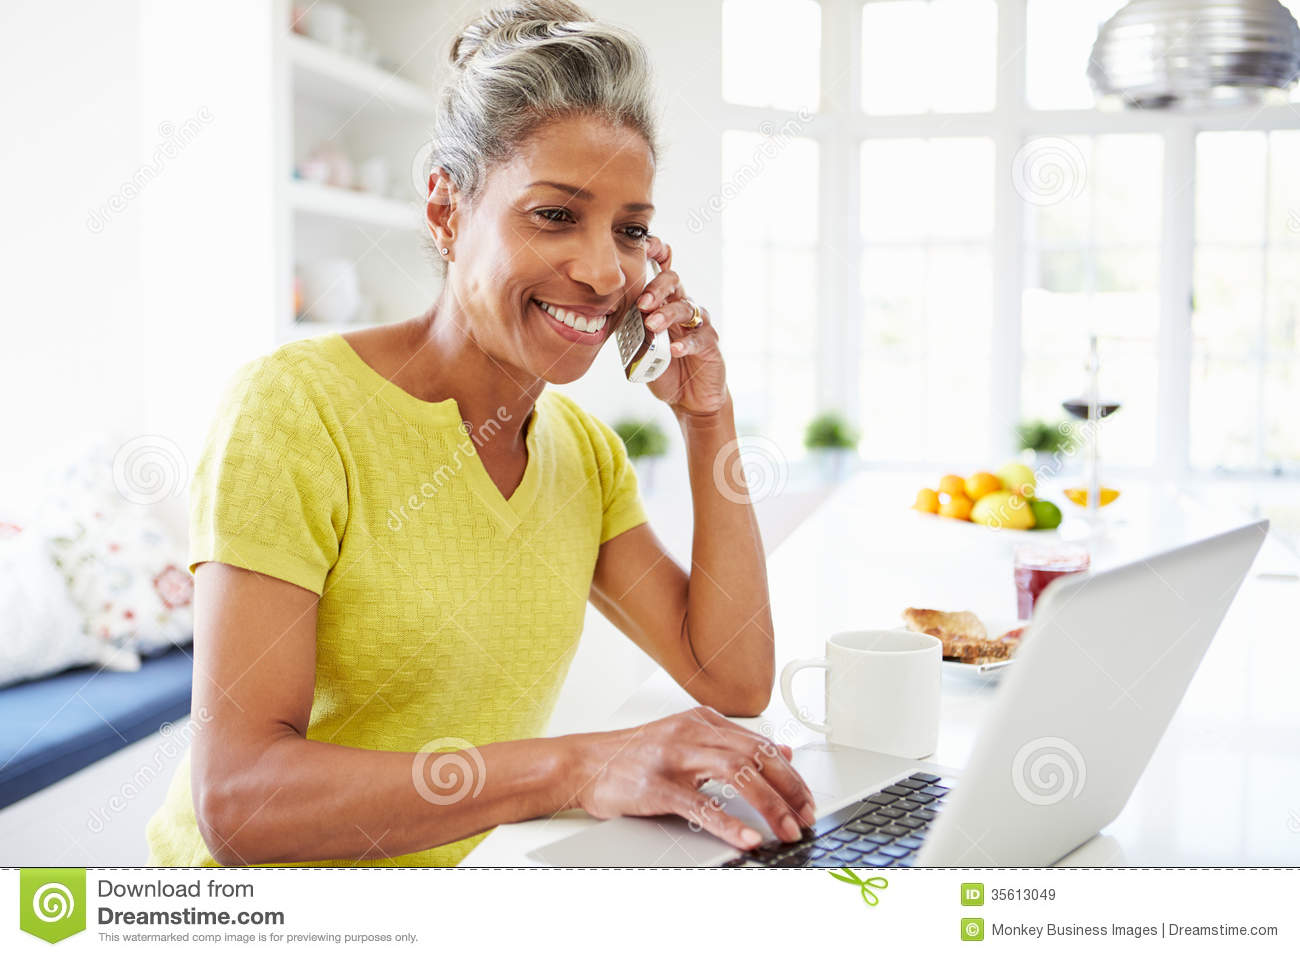talk: (508, 166, 730, 445)
